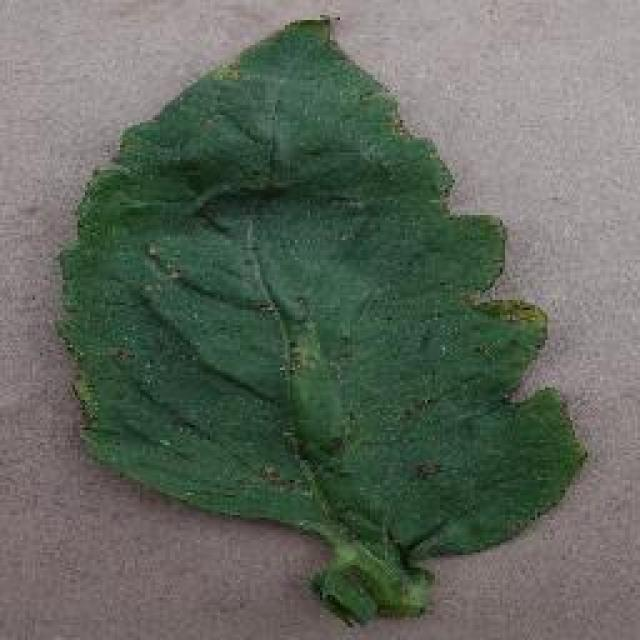Tomato___Bacterial_spot: (48, 15, 596, 632)
